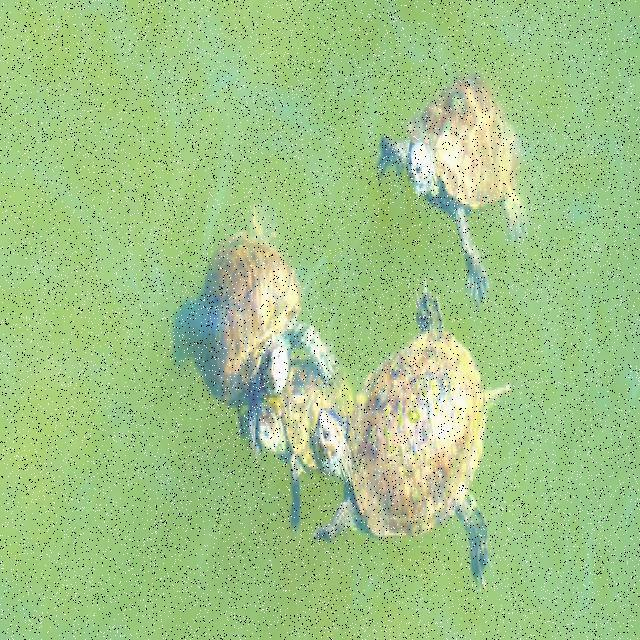tortoise: (324, 285, 520, 565), (364, 76, 538, 286)
